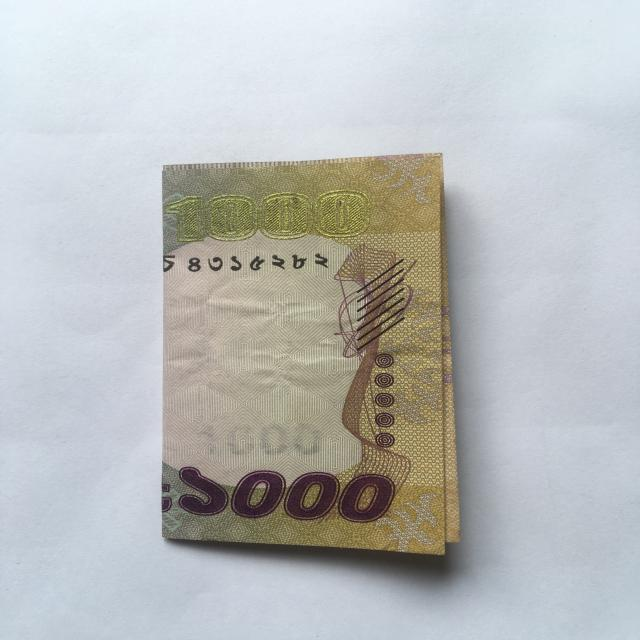Taka: (152, 151, 488, 564)
